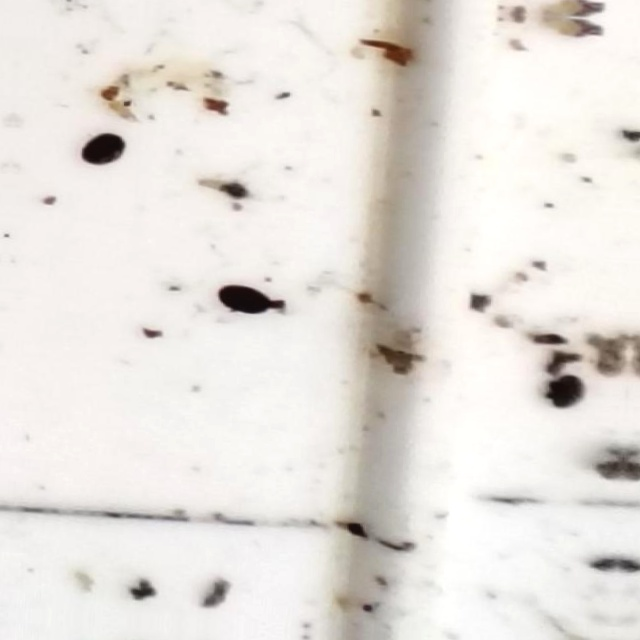varroa: (217, 285, 274, 319), (80, 130, 127, 169), (544, 373, 584, 411)
